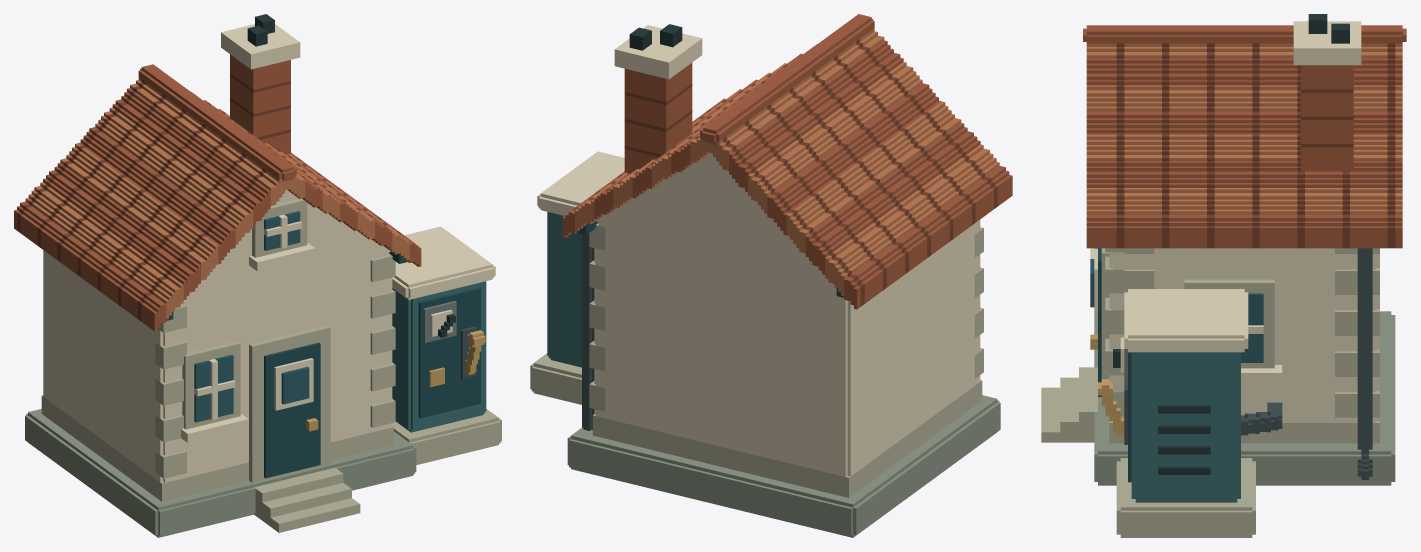
File: lockkeepers_house.glb
The picture shows the model from 3 angles, left to right: view 1: azimuth 30°, elevation 25°; view 2: azimuth 150°, elevation 25°; view 3: azimuth 270°, elevation 25°; orthographic projection. The views are drawn at different scales.
Parts seen in each view (by area): view 1: lockkeepers_house; view 2: lockkeepers_house; view 3: lockkeepers_house.
Part boxes in pixels (x1,y1,x2,y2): lockkeepers_house: [14, 14, 501, 537]; lockkeepers_house: [530, 14, 1012, 537]; lockkeepers_house: [1041, 14, 1406, 537].
Size of the model in its own units: 6.25 by 6.4 by 4.85.
